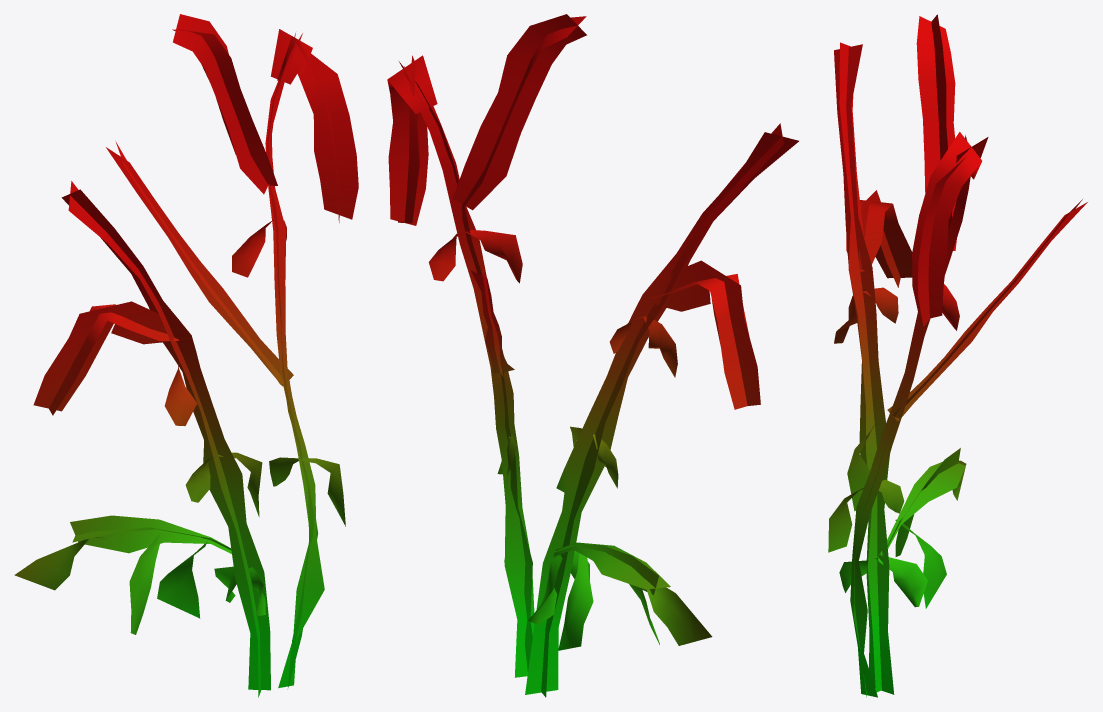
Rendered from Var4_LOD0.fbx.
3 views of the same model, side by side, from view 1: azimuth 30°, elevation 25°; view 2: azimuth 150°, elevation 25°; view 3: azimuth 270°, elevation 25° (orthographic). The views are drawn at different scales.
Parts seen in each view (by area): view 1: _18ea_Var4_LOD0; view 2: _18ea_Var4_LOD0; view 3: _18ea_Var4_LOD0.
Boxes of the visible parts, x1=… form: _18ea_Var4_LOD0: x1=14, y1=14, x2=358, y2=697; _18ea_Var4_LOD0: x1=387, y1=14, x2=798, y2=697; _18ea_Var4_LOD0: x1=828, y1=14, x2=1087, y2=697.
Bounding box in the file's own units: 28.86 × 55.33 × 20.01.
